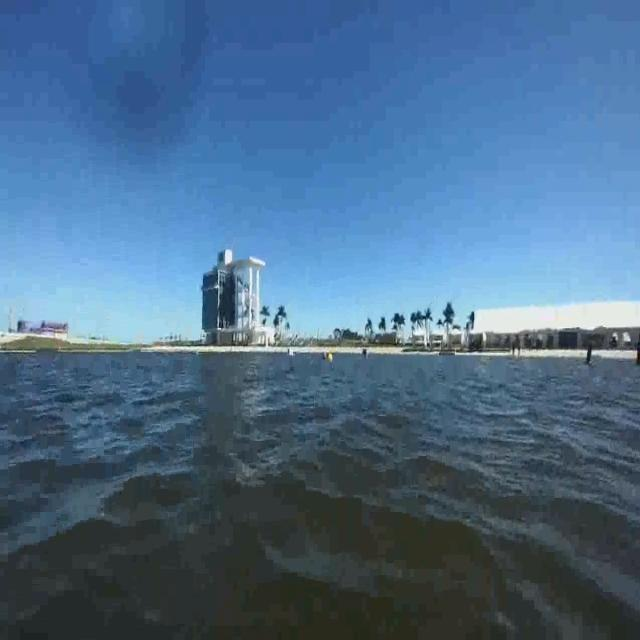yellow-buoy: (326, 351, 333, 364)
